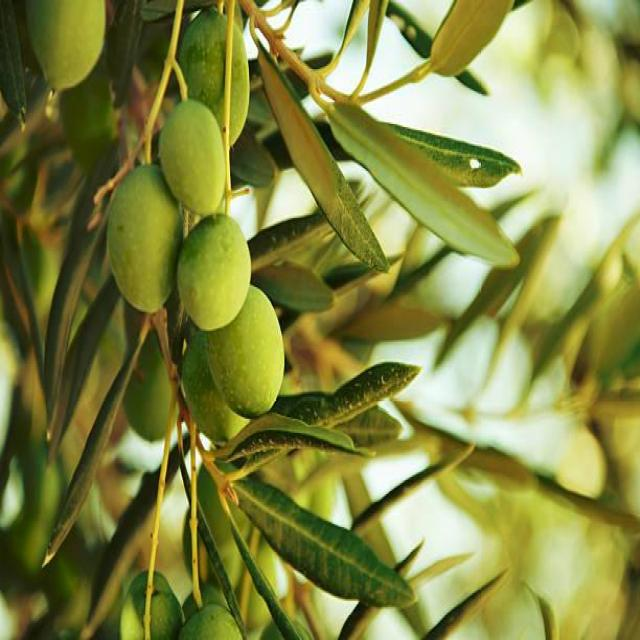Healthy: (107, 165, 183, 311), (207, 285, 283, 419), (179, 215, 249, 329), (28, 0, 105, 102), (158, 100, 223, 215)
